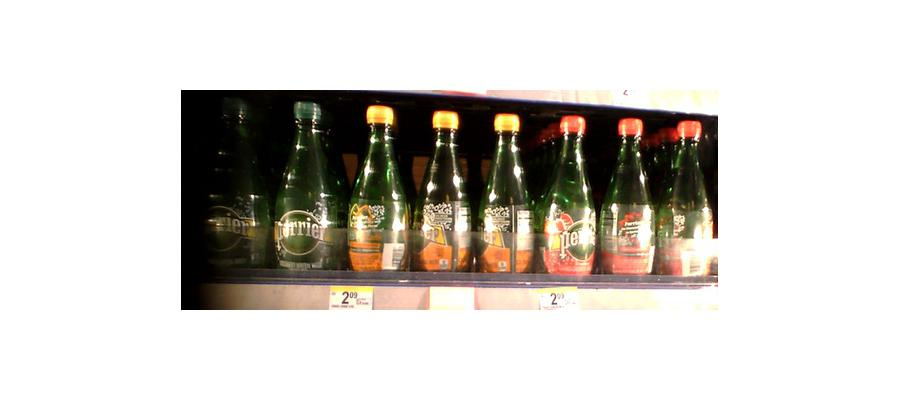bottle: (274, 96, 341, 276), (346, 103, 408, 281), (210, 100, 271, 272), (541, 113, 598, 283), (414, 109, 471, 278), (479, 114, 535, 280), (599, 117, 655, 281), (658, 117, 712, 282)
